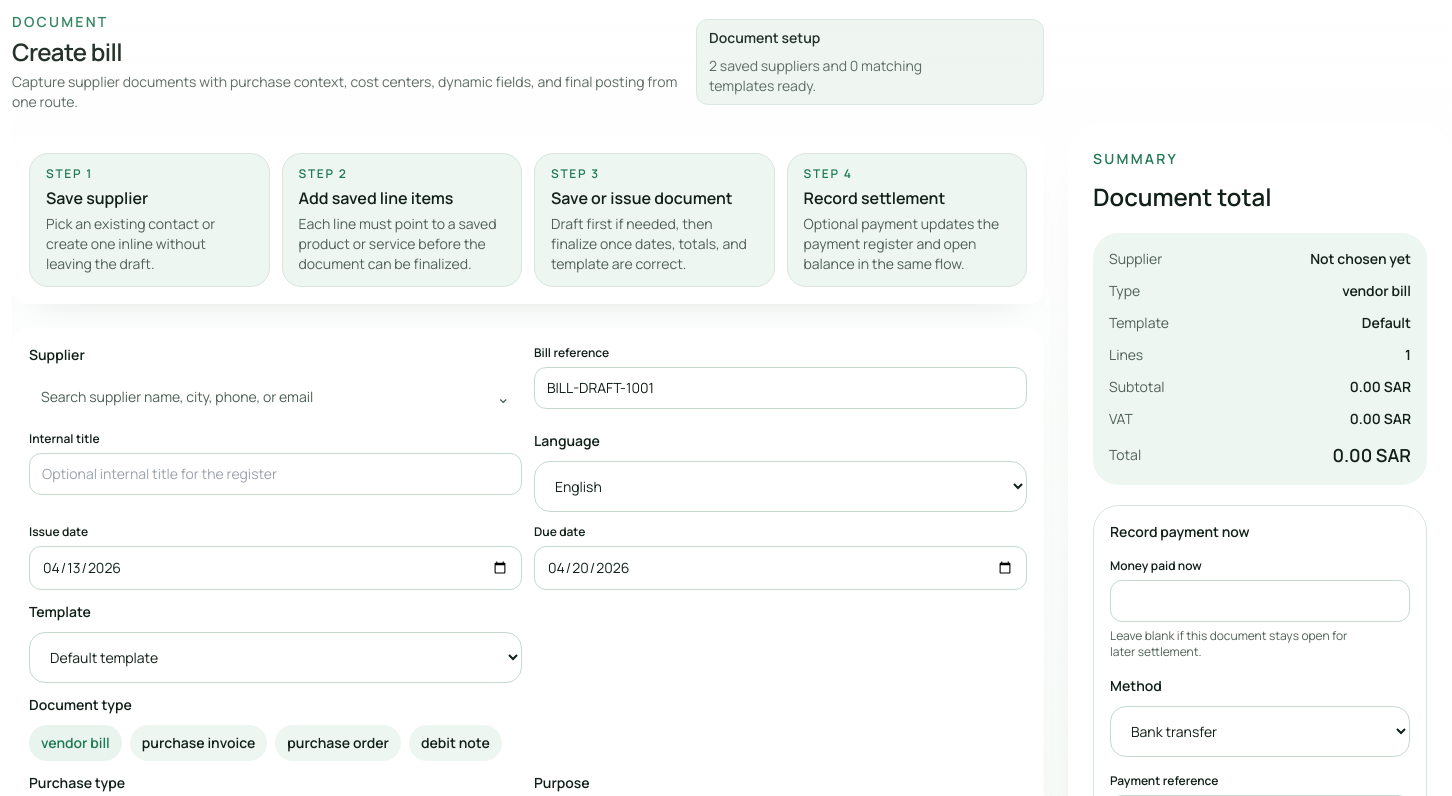
Test: transaction workflow layer › creates a supplier inside the bill flow and auto-selects it
Click the button "supplier" at (276, 397), box [29,375,522,419]
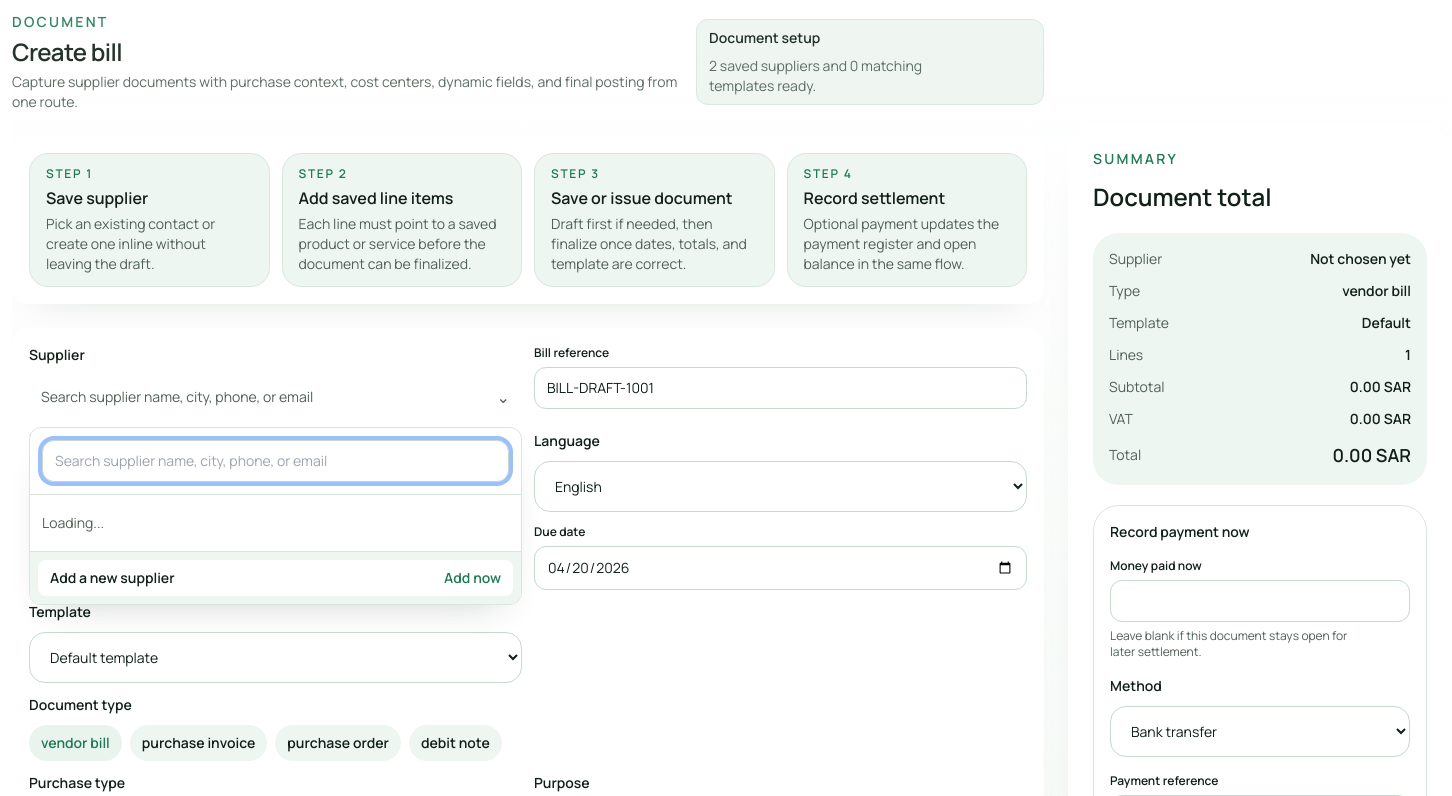
Type "Desert Facility Services" into the field with placeholder "Search supplier name, city, phone, or email" at (276, 461), box [42,440,509,482]
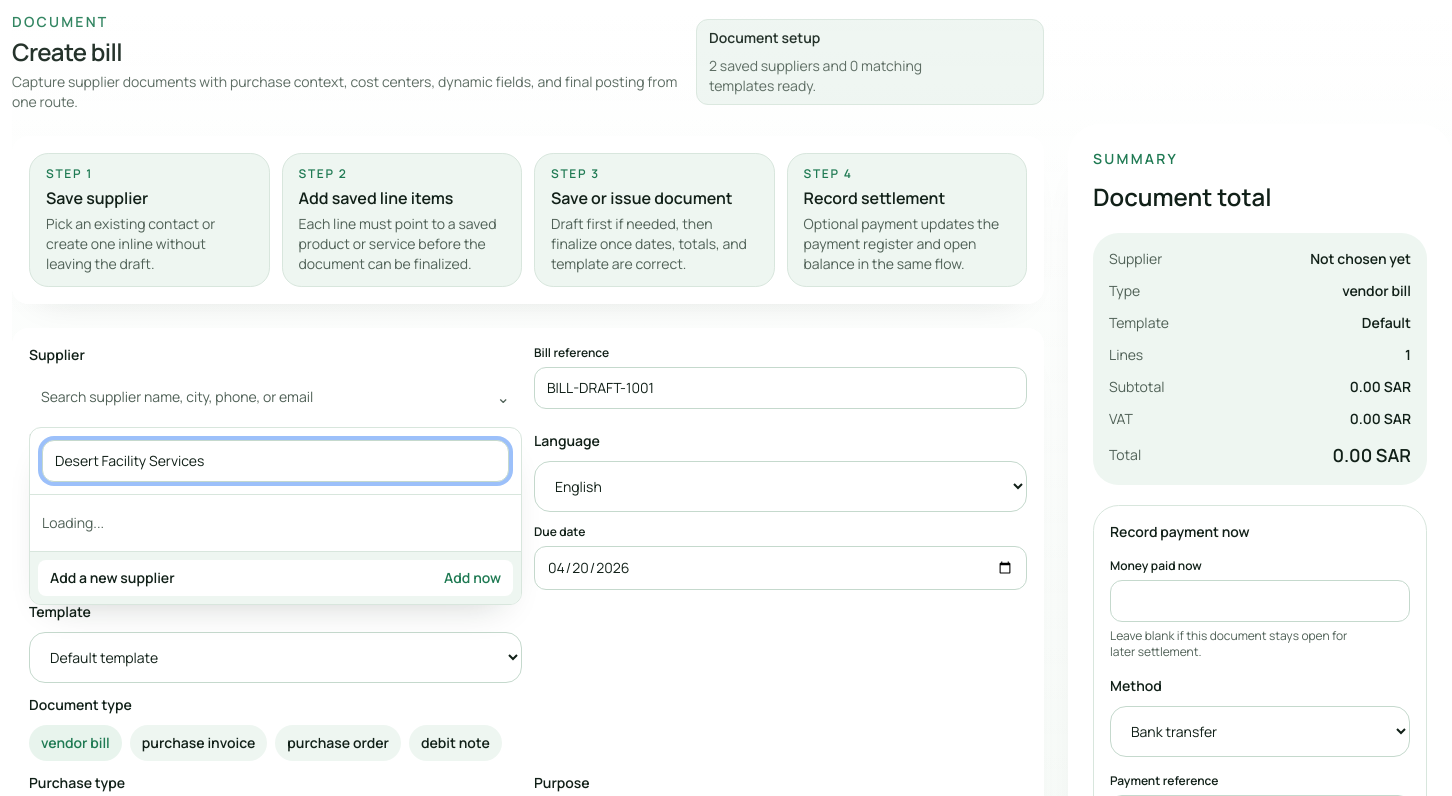
Click the button "Add a new supplier Add now" at (112, 578), box [38,560,513,596]
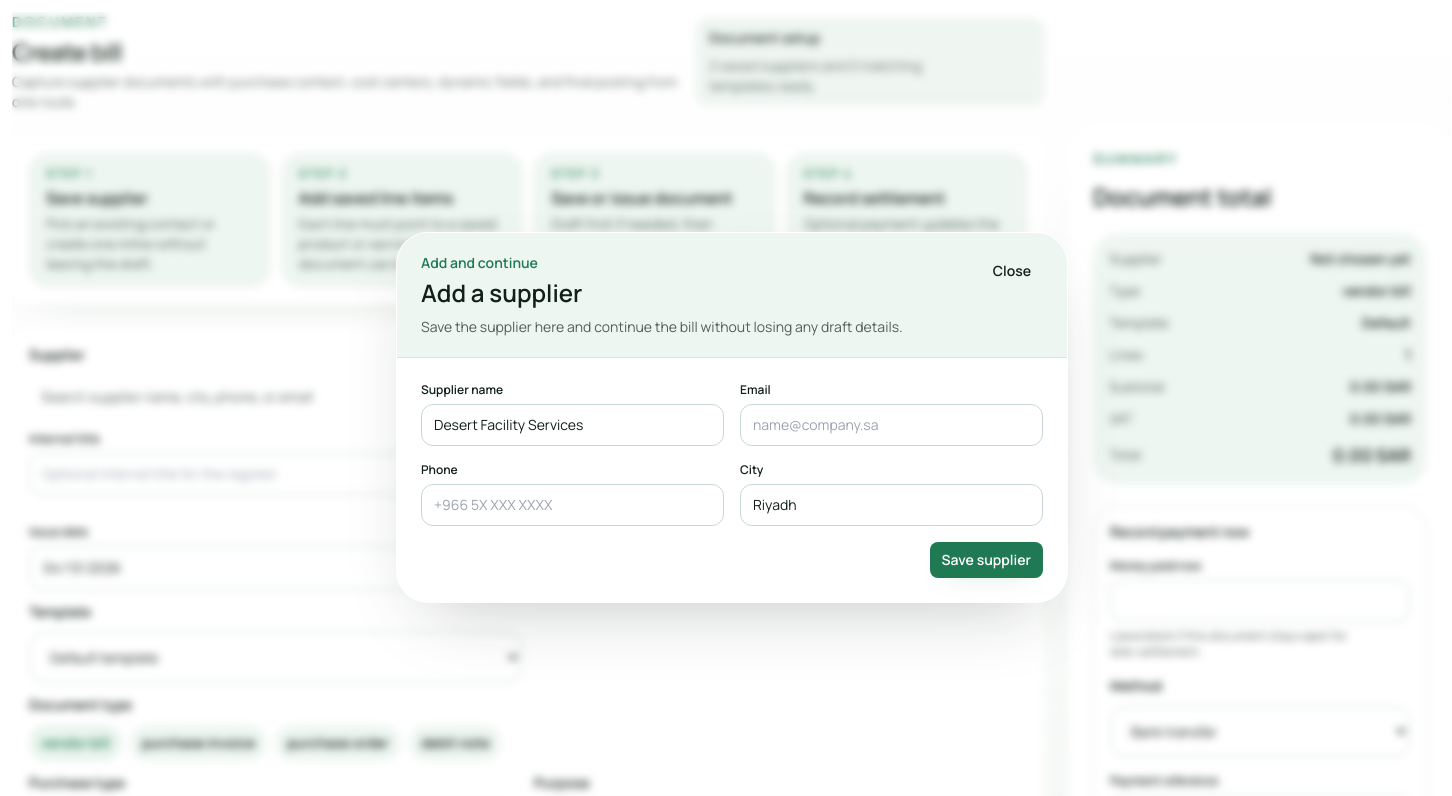
Type "ops@desert.sa" into the field labelled "Email" at (892, 424), box [740,404,1043,446]
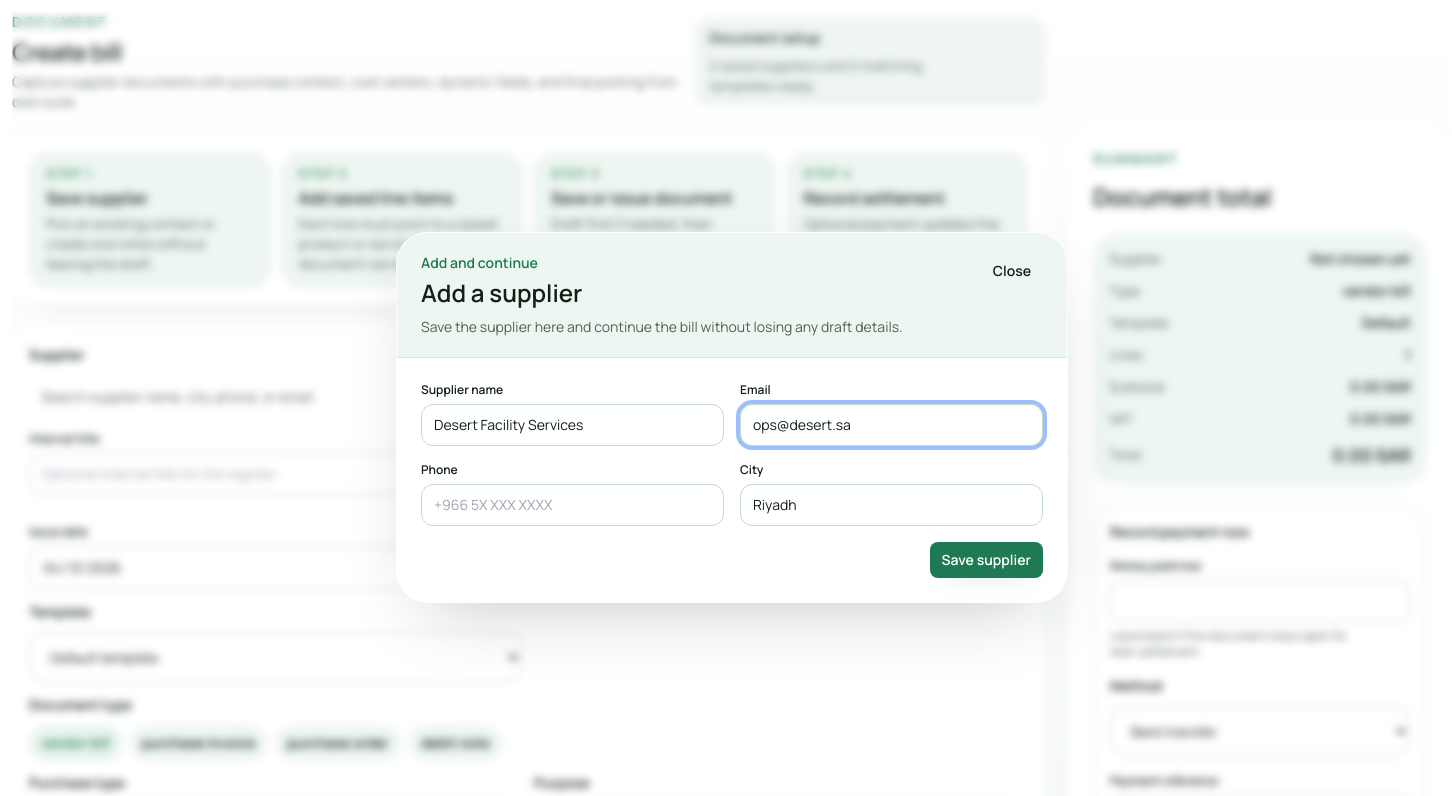
Type "+966511223344" into the field labelled "Phone" at (572, 504), box [421,484,724,526]
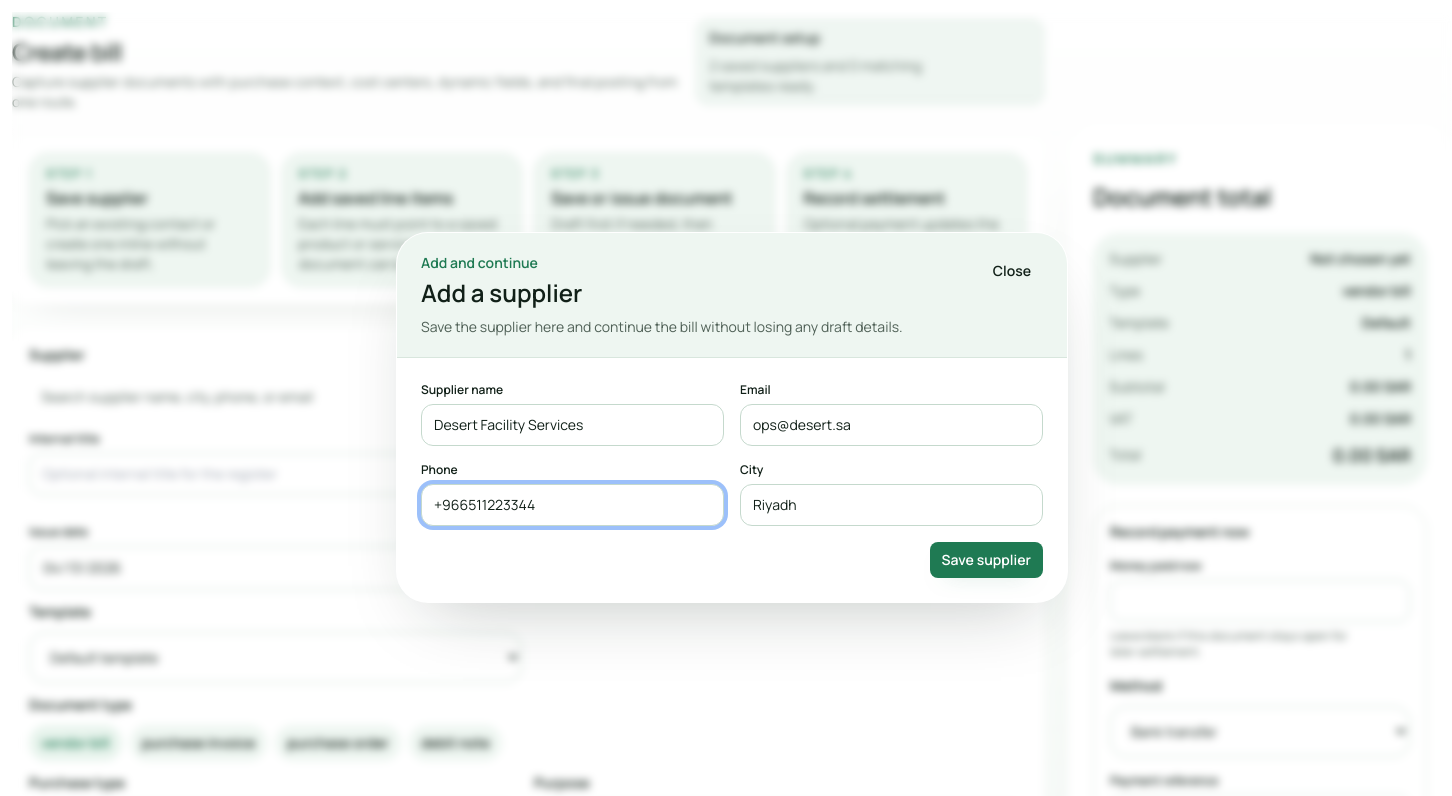
Click the button "Save supplier" at (986, 560), box [930,542,1043,578]
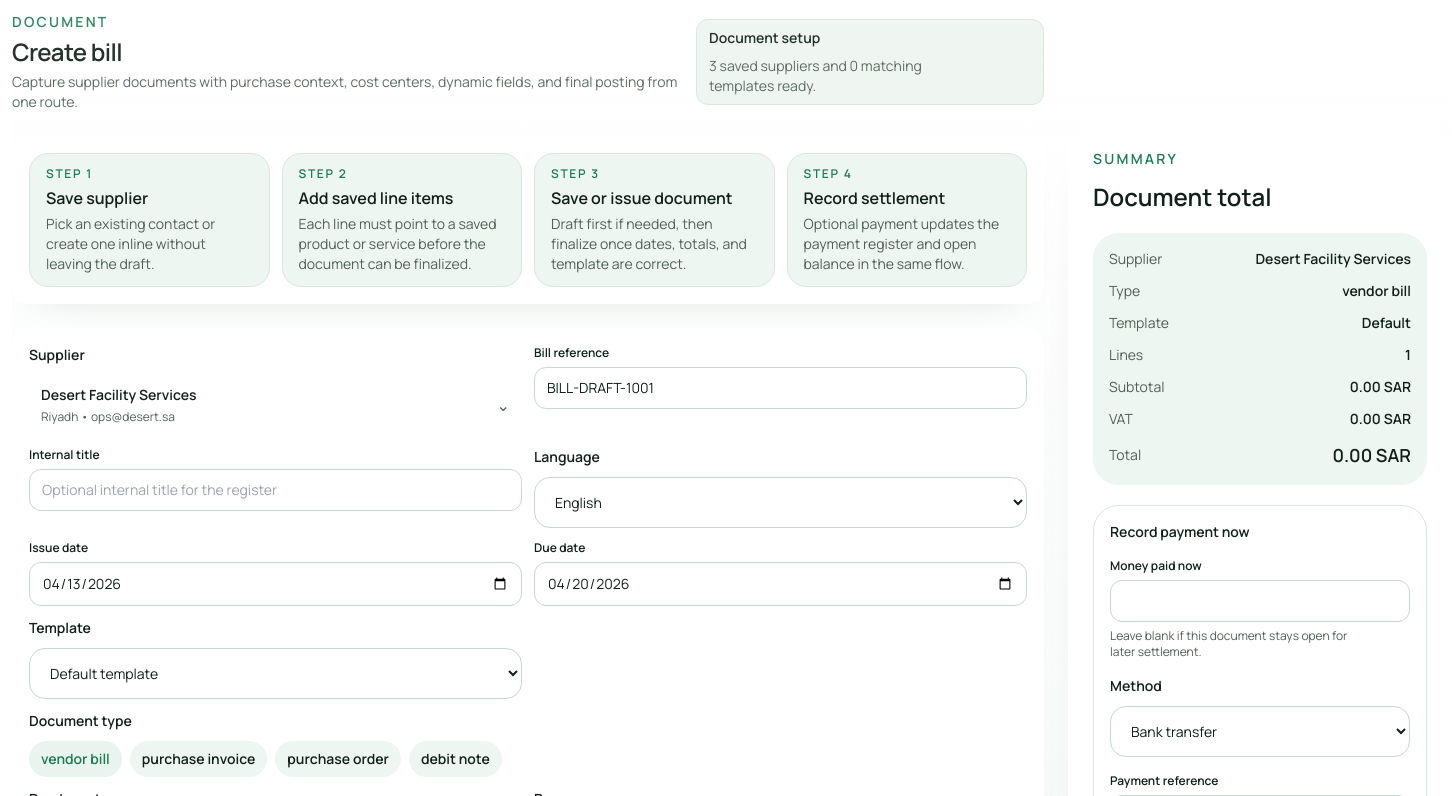
Expected: the text "Desert Facility Services" below "Add saved line items" is shown, [41,385,197,404]
